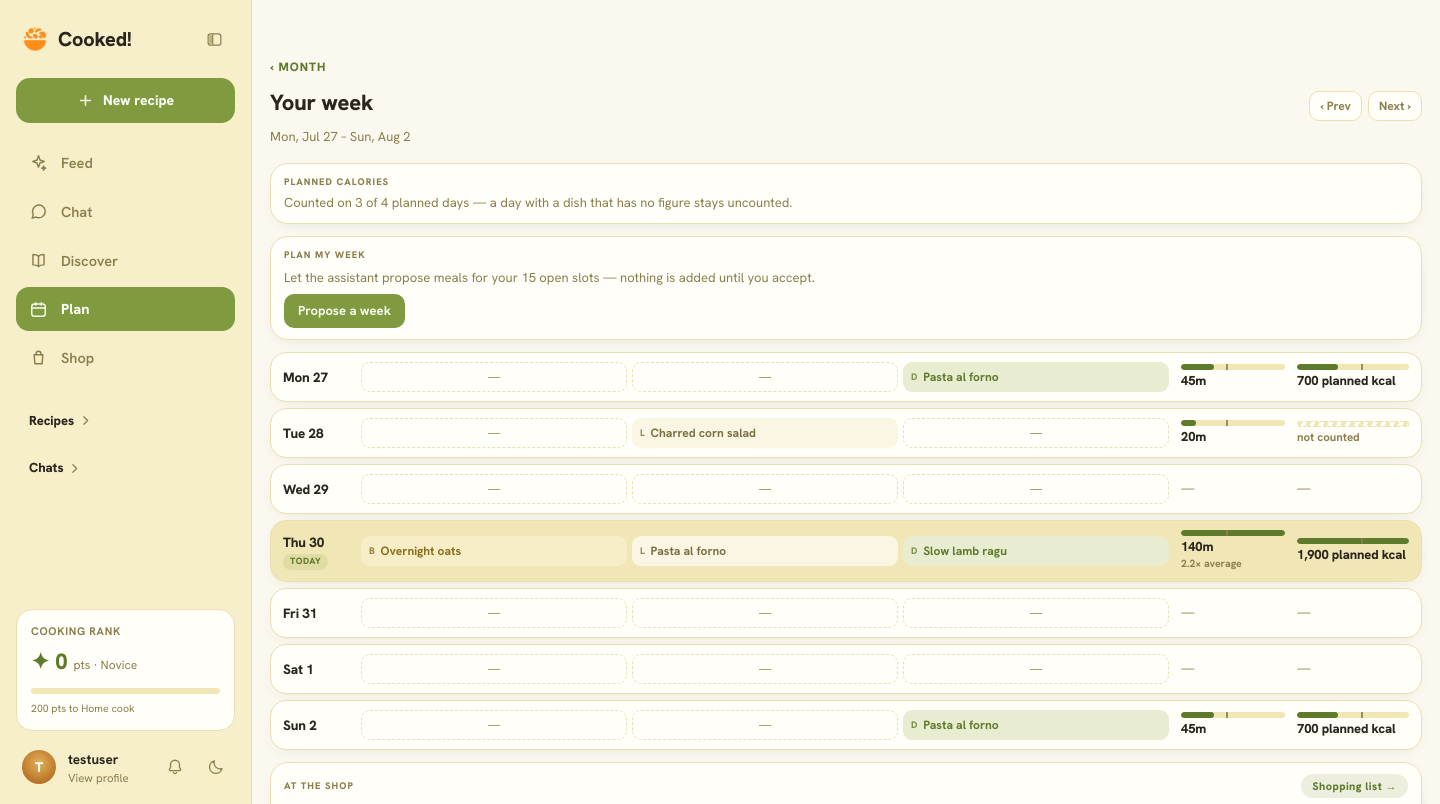
Scenario: the week board › docks the panel beside the rows on a wide screen instead of over them
Click the button with aria-label "pasta al forno, thursday lunch": (688, 551) [632, 536, 898, 566]
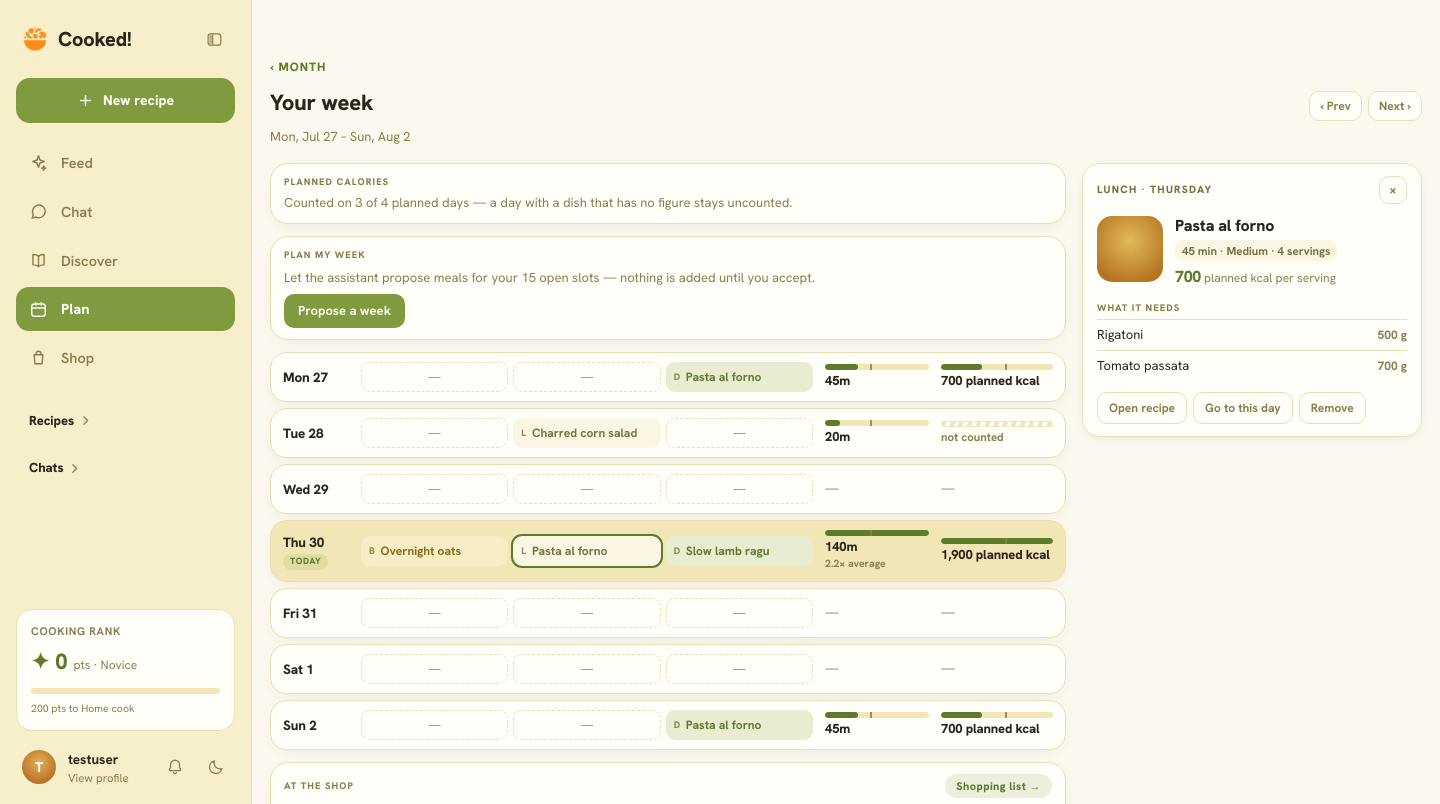
Expected: the button "Remove" is shown, [1299, 392, 1366, 424]
Expected: the text "700 planned kcal per serving" is shown, [1175, 266, 1336, 287]
